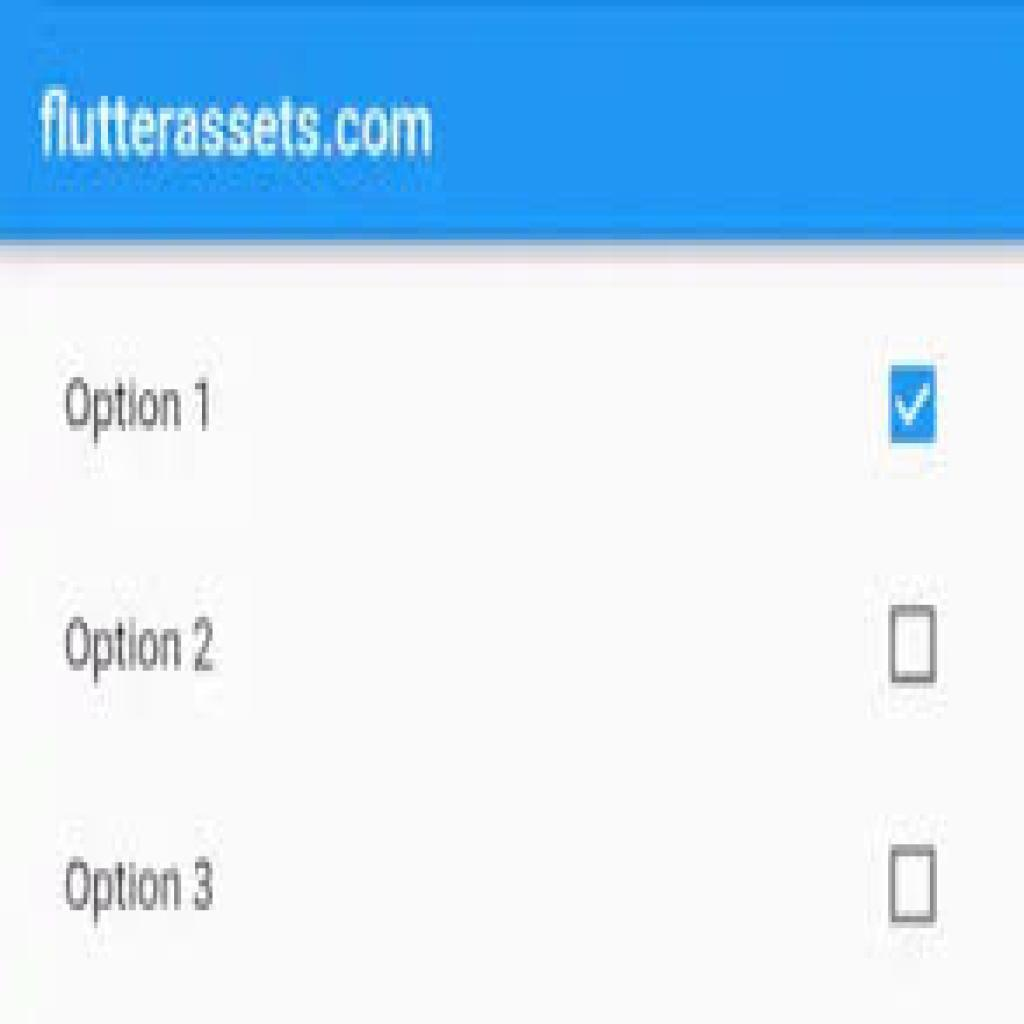checkbox: (888, 841, 939, 926), (889, 367, 937, 444), (891, 608, 938, 683)
label: (60, 607, 220, 689), (64, 368, 220, 447), (62, 852, 216, 931)
